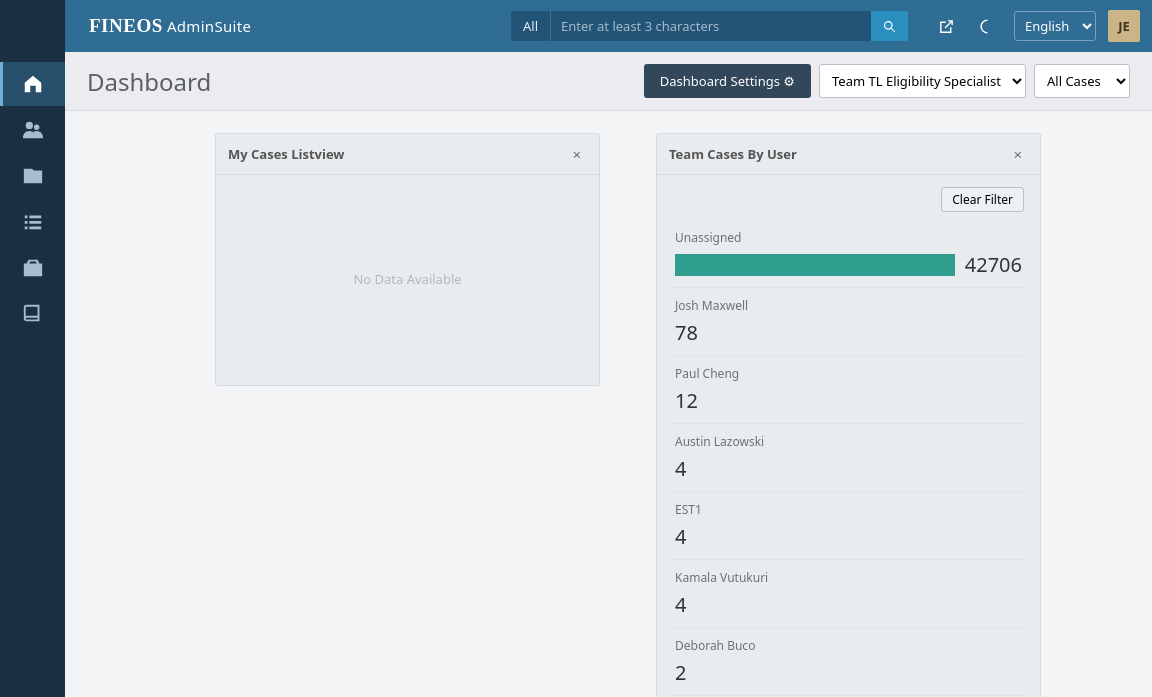
Test: Side-navigation search shortcuts › returns to the dashboard shell cleanly when the search is closed
Click the button named "cases" at {"x": 32, "y": 176}, box left=0, top=154, right=65, bottom=198
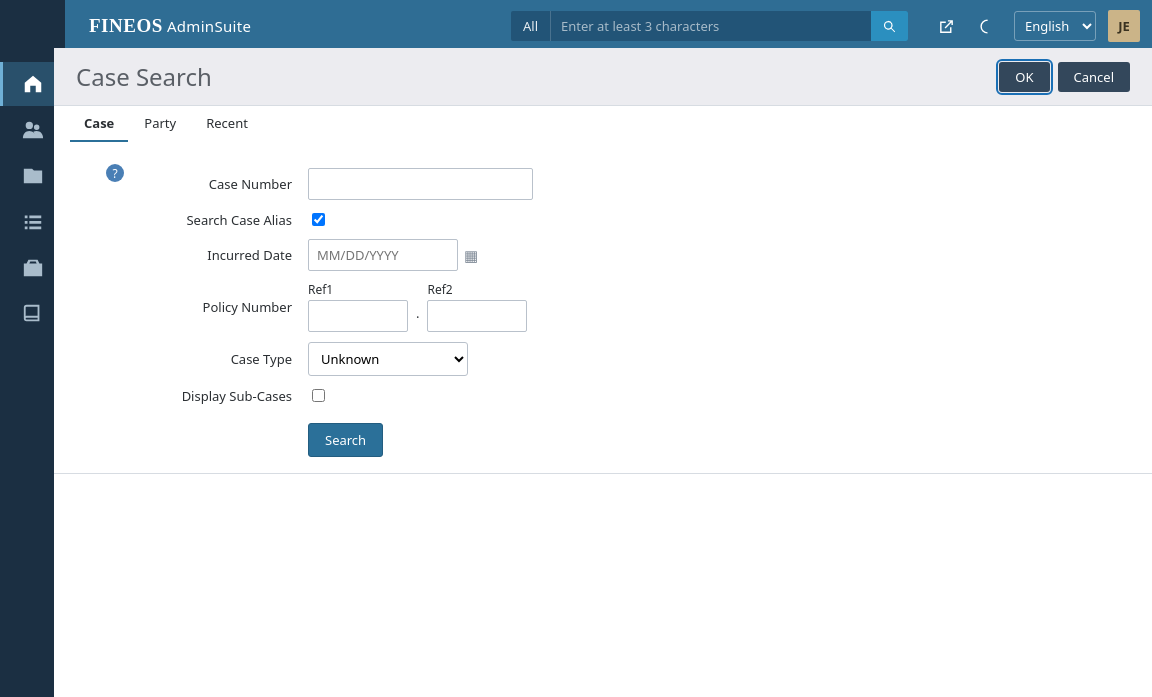
Press Escape
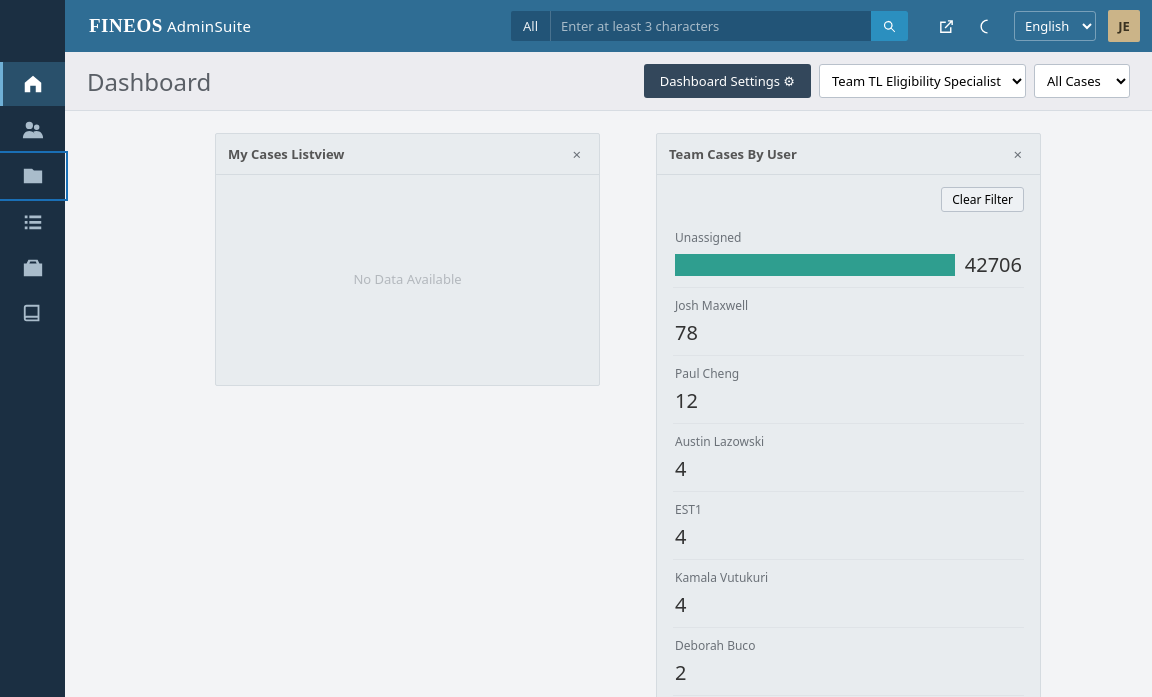
Check: the heading "Dashboard" is shown, box left=87, top=64, right=211, bottom=98
Check: the heading "Case Search" is gone
